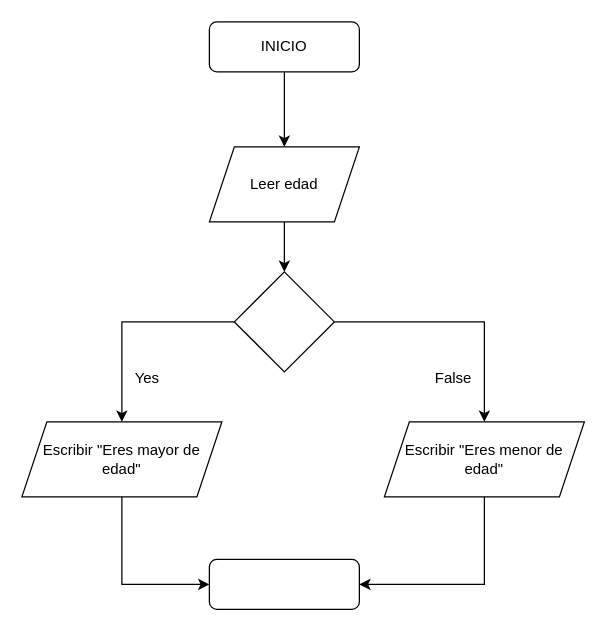
Some shapes in this 606 by 631 pixel diagram are drawn without their labels. Here are the shapes that lost their labels. From the top down, the centre of each, then its label:
the point at 283,321: edad > 18
the point at 283,583: FIN
